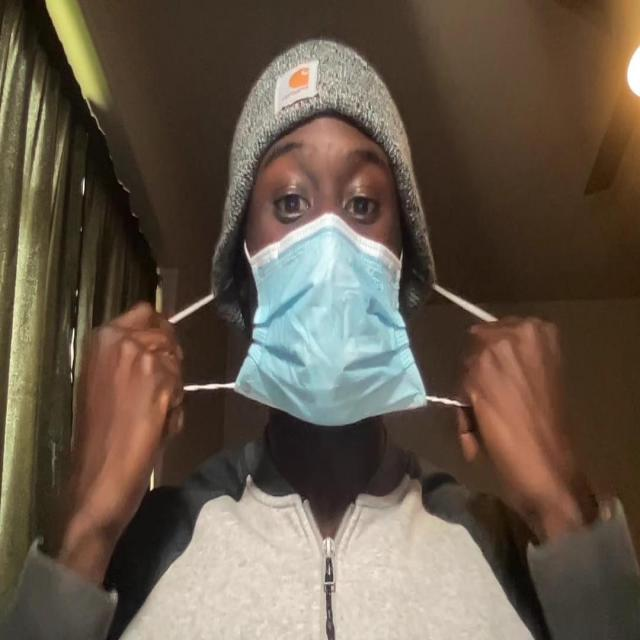face: (241, 129, 408, 421)
